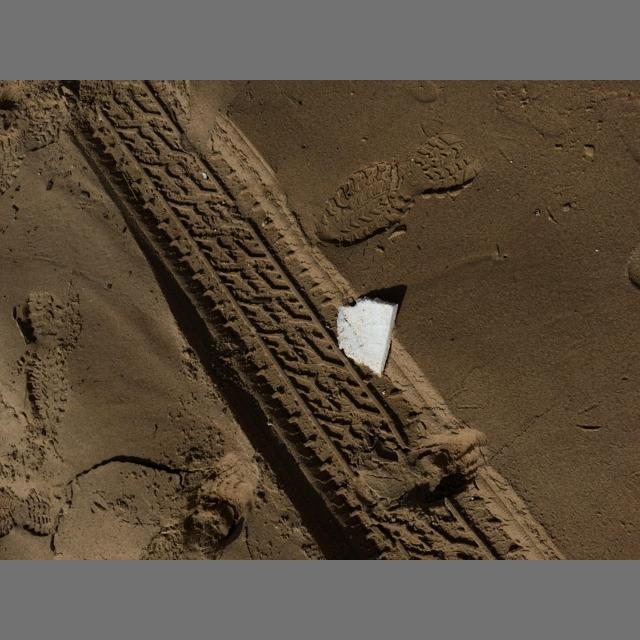litter: (337, 296, 398, 378), (203, 173, 207, 179)
